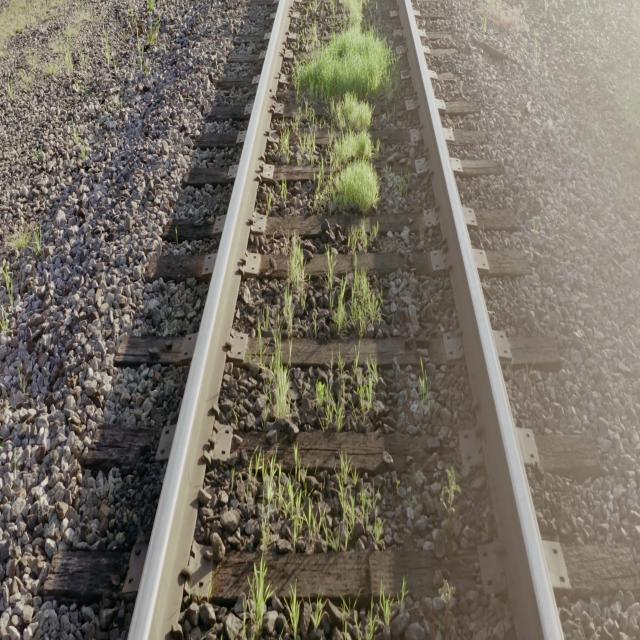Plant: (292, 0, 396, 216), (250, 460, 382, 551), (269, 236, 308, 424), (295, 27, 395, 100), (310, 356, 379, 431), (326, 253, 382, 338), (244, 567, 271, 638), (354, 596, 392, 638), (349, 224, 371, 260), (288, 589, 301, 638), (280, 129, 290, 156)
